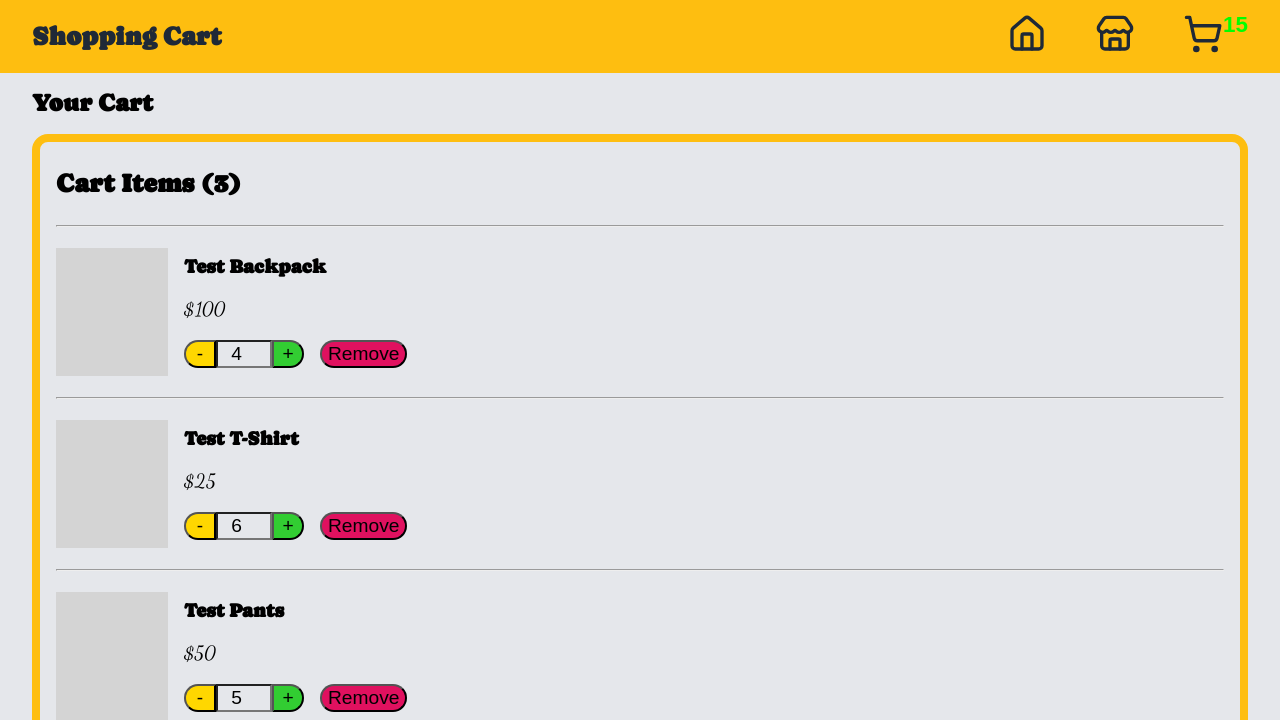
Test: Testing Cart page › Remove Item: should remove item from cart when remove button is clicked
Step 1. Click the button with aria-label "Remove Test Pants orders from cart" → (364, 698), box left=320, top=684, right=408, bottom=712
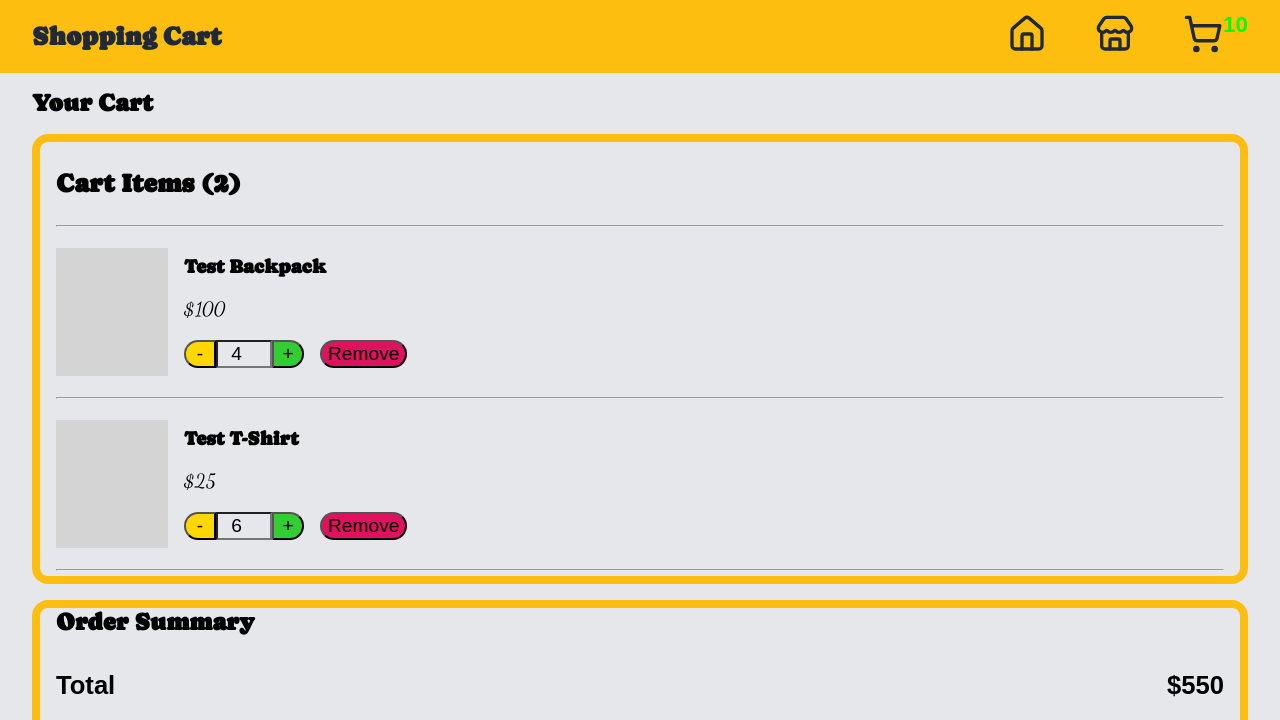
Now the message reads "10", box left=1223, top=11, right=1248, bottom=36
